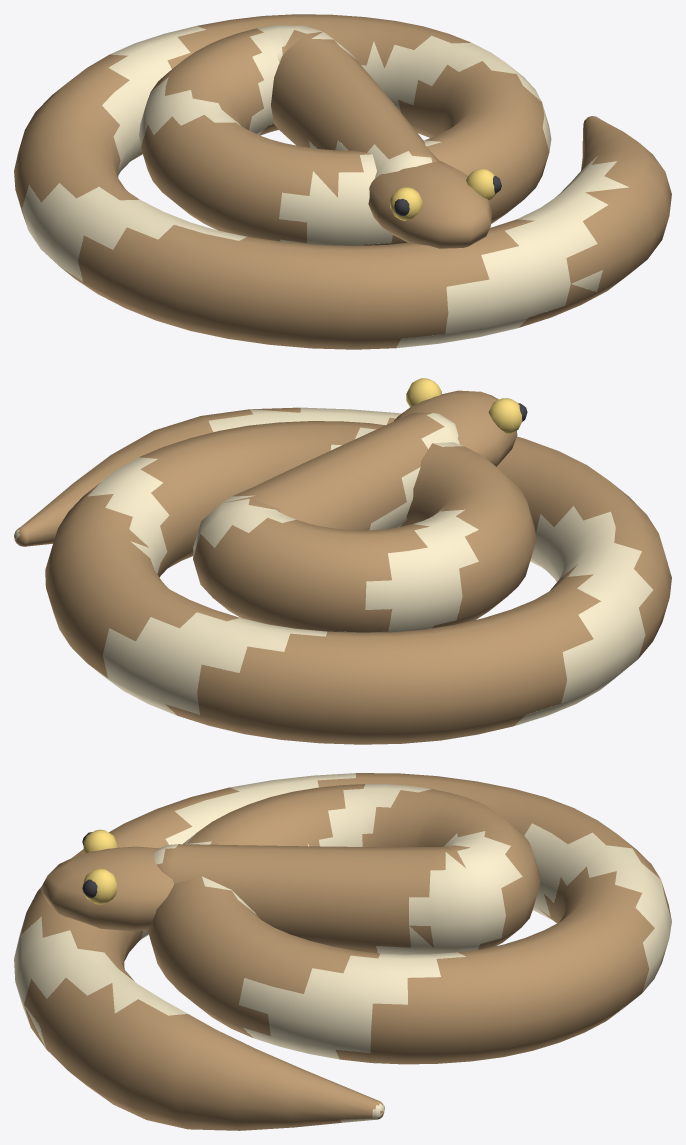
File: reptiles-amphibians-and-minibeasts-ball-python-coiled-996112fd__22437.glb
3 renders of one model, top to bottom at view 1: azimuth 30°, elevation 25°; view 2: azimuth 150°, elevation 25°; view 3: azimuth 270°, elevation 25°, orthographic. The views are drawn at different scales.
Parts seen in each view (by area): view 1: ball-python-coiled; view 2: ball-python-coiled; view 3: ball-python-coiled.
Part boxes in pixels (x1,y1,x2,y2): ball-python-coiled: [14, 14, 671, 349]; ball-python-coiled: [14, 378, 671, 744]; ball-python-coiled: [14, 773, 671, 1130].
Bounding box in the file's own units: 0.3929 × 0.1138 × 0.38.
